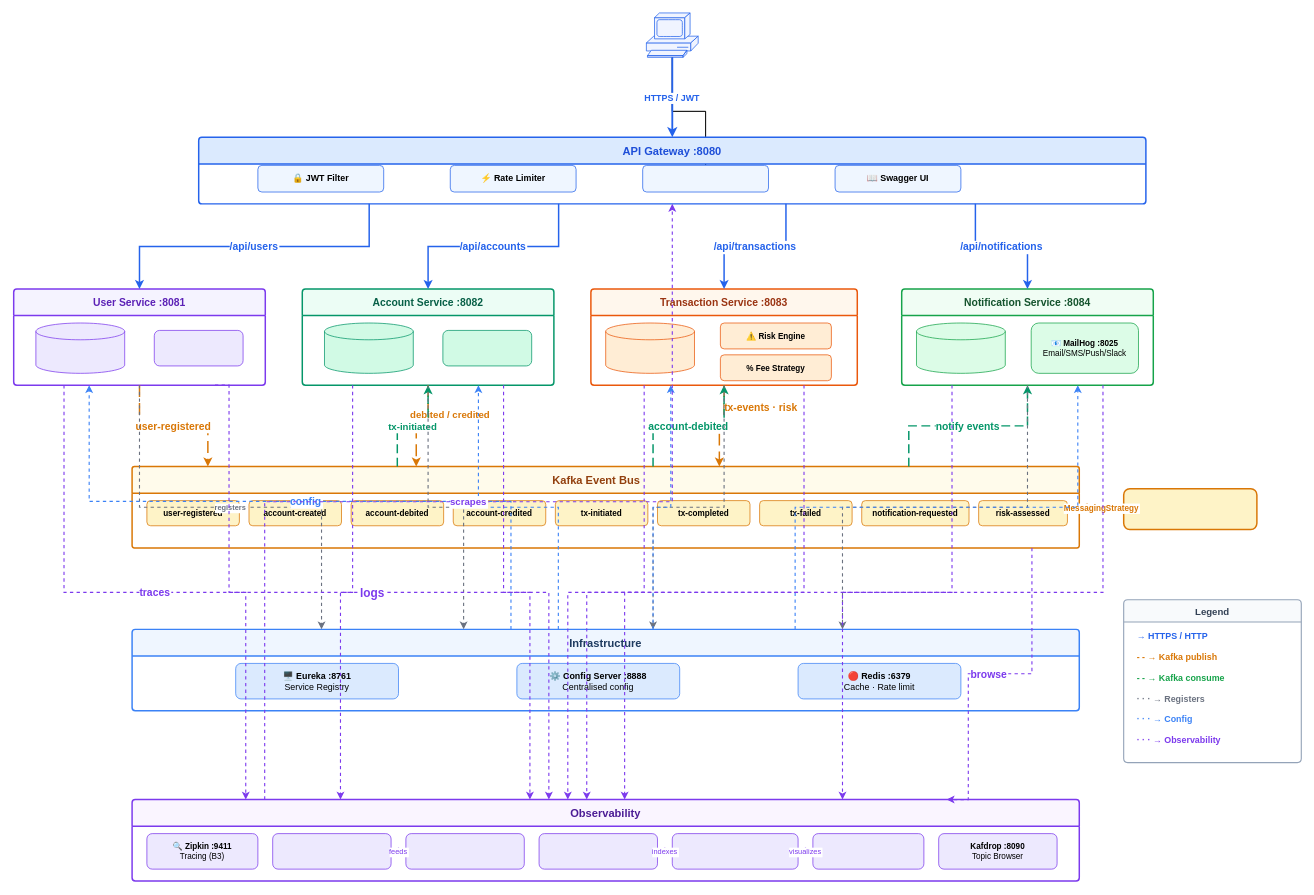
Image size: 1314x895. Some labels were removed from this diagram. The centre of each missing label's shape, as x and y in pixels:
Client: point (672, 34)
EHCache L2 READ_WRITE: point (487, 348)
MySQL :3307 fintrack_users: point (80, 347)
MySQL :3308 fintrack_accounts: point (368, 347)
MySQL :3309 fintrack_tx: point (649, 347)
MySQL :3310 fintrack_notify: point (960, 347)
Redis Cache :6379: point (198, 348)
🐰 RabbitMQ :15672 (swappable): point (1190, 509)
📈 Prometheus :9090 Metrics: point (331, 851)
📊 Grafana :3000 Dashboards: point (464, 851)
🔎 Elasticsearch :9200: point (735, 851)
🔽 Logstash :5044: point (597, 851)
🛡️ Circuit Breaker: point (705, 178)
🥧 Kibana :5601 Logs: point (868, 851)
